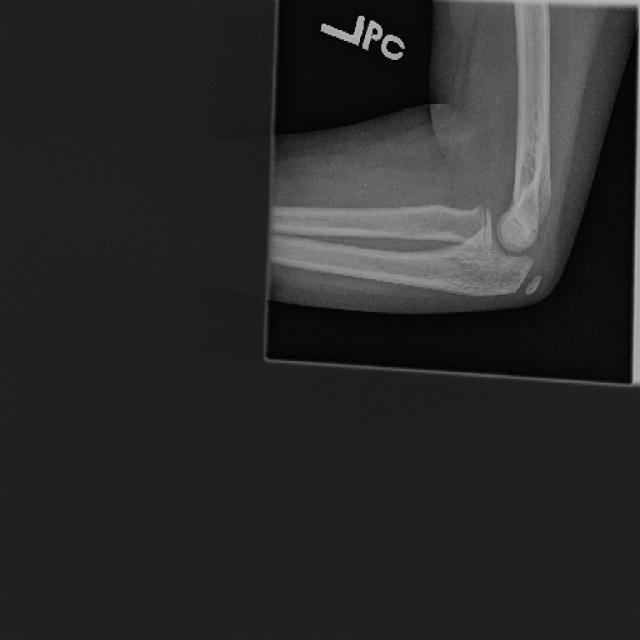elbow positive: (488, 239, 577, 323)
